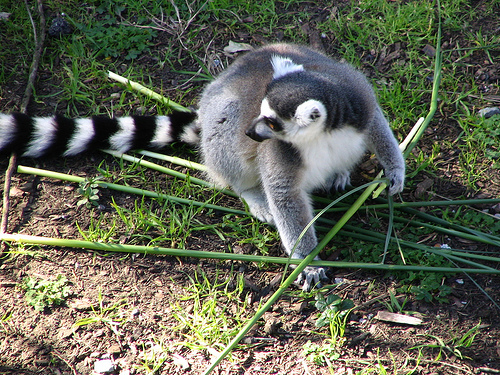cat: (0, 44, 407, 288)
